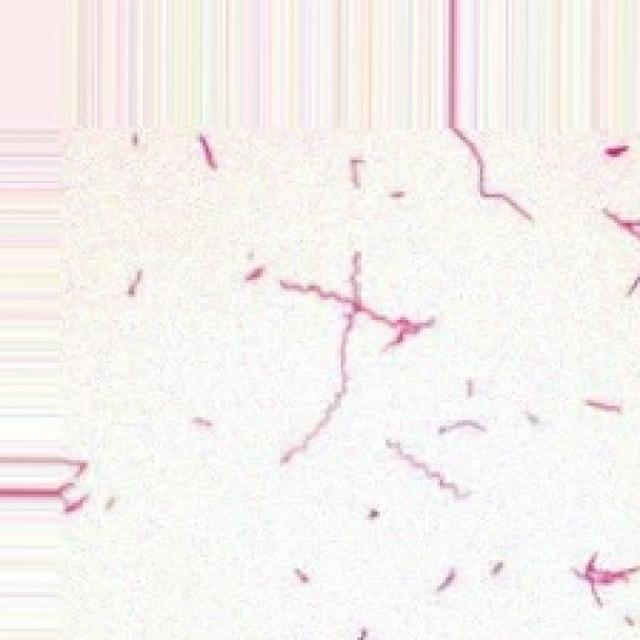Spiral_bacteria: (52, 120, 637, 637)
